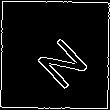N_NW: (23, 22, 87, 88)
